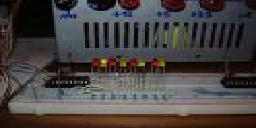LED: (88, 57, 171, 71)
